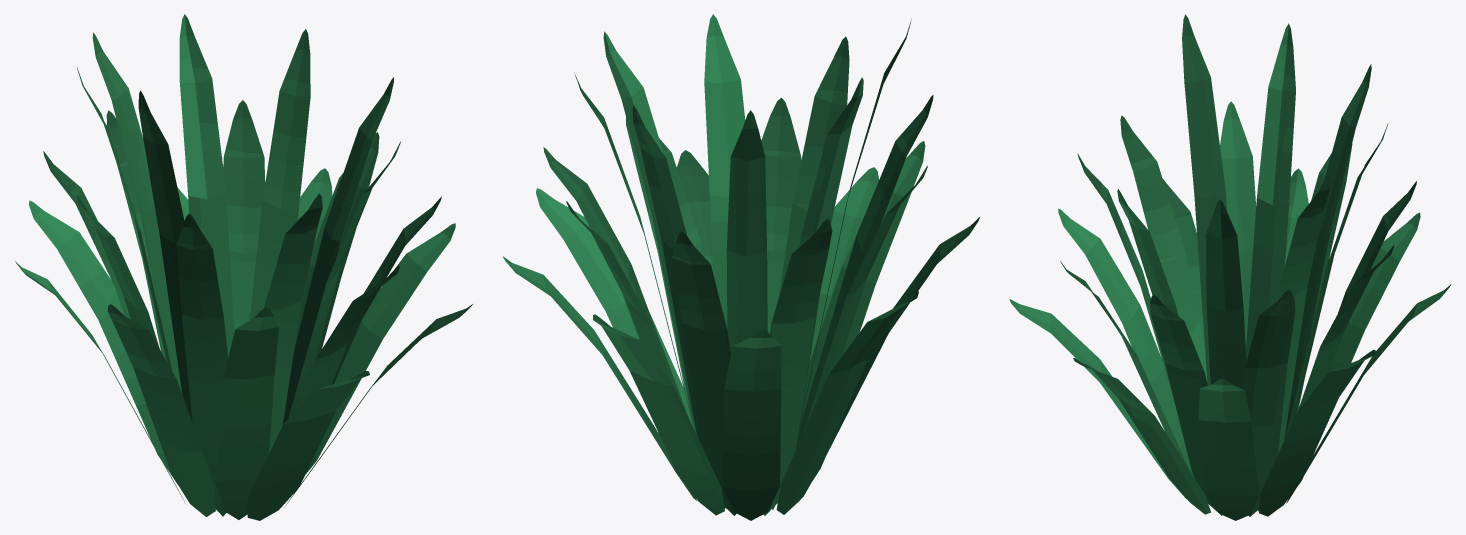
Rendered from Grass.gltf.
3 renders of one model, left to right at view 1: azimuth 30°, elevation 25°; view 2: azimuth 150°, elevation 25°; view 3: azimuth 270°, elevation 25°, orthographic. The views are drawn at different scales.
Parts seen in each view (by area): view 1: Circle; view 2: Circle; view 3: Circle.
Part boxes in pixels (x1=…): Circle: x1=15, y1=14, x2=472, y2=520; Circle: x1=503, y1=14, x2=979, y2=520; Circle: x1=1009, y1=14, x2=1451, y2=520.
Bounding box in the file's own units: 6.66 × 7.38 × 6.86.
1 material, 1 textured.
